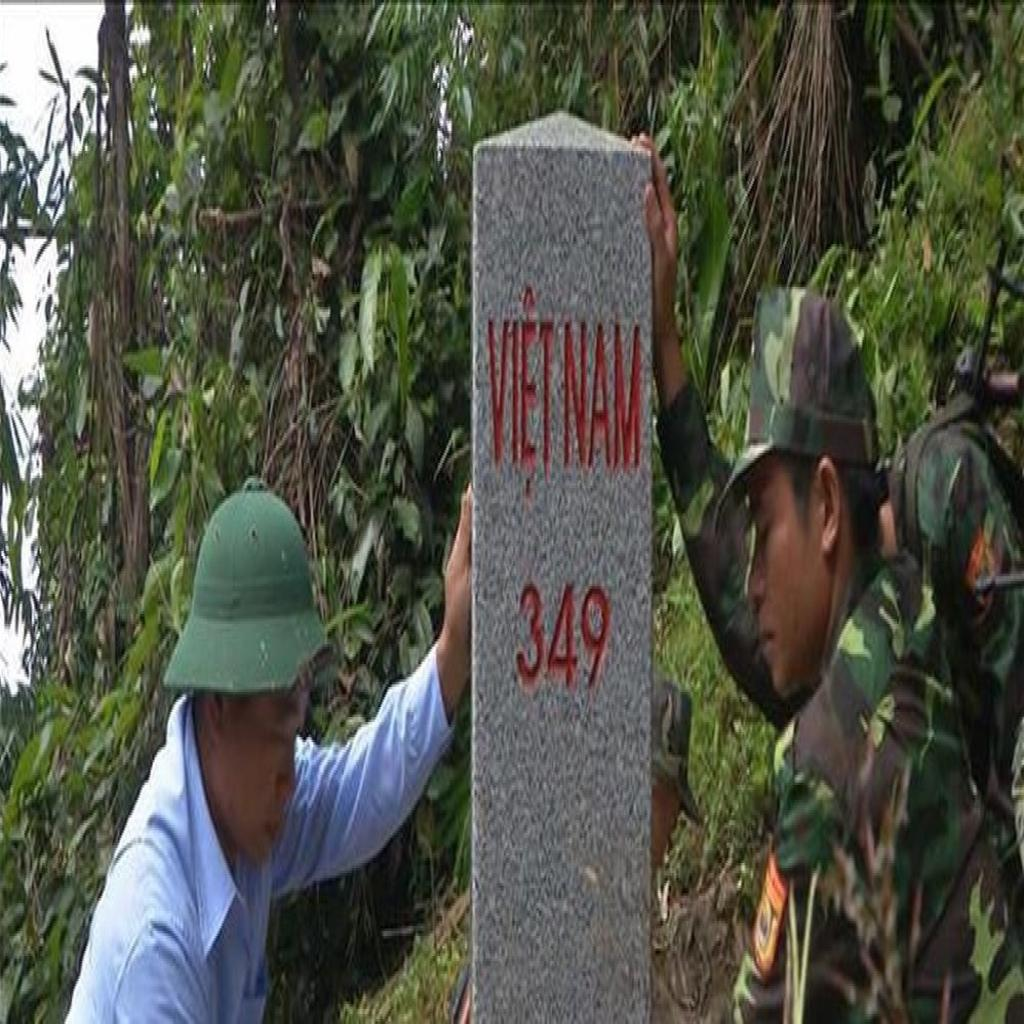text: (486, 282, 555, 506), (562, 317, 642, 470)
